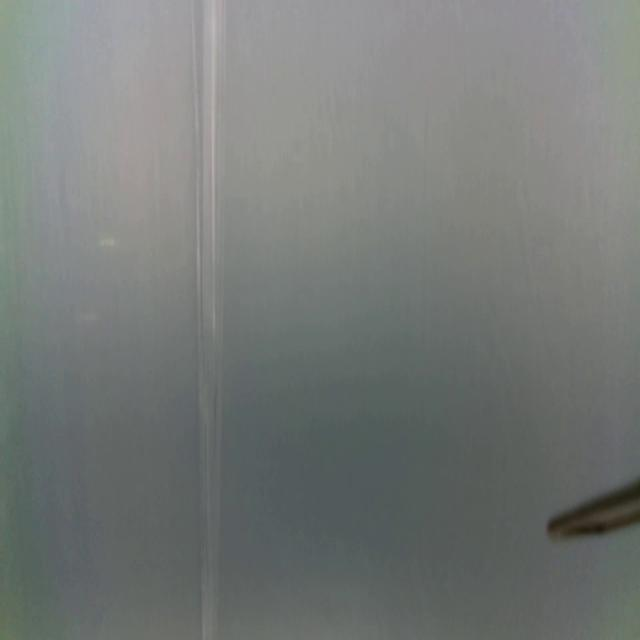crease: (191, 1, 226, 640)
